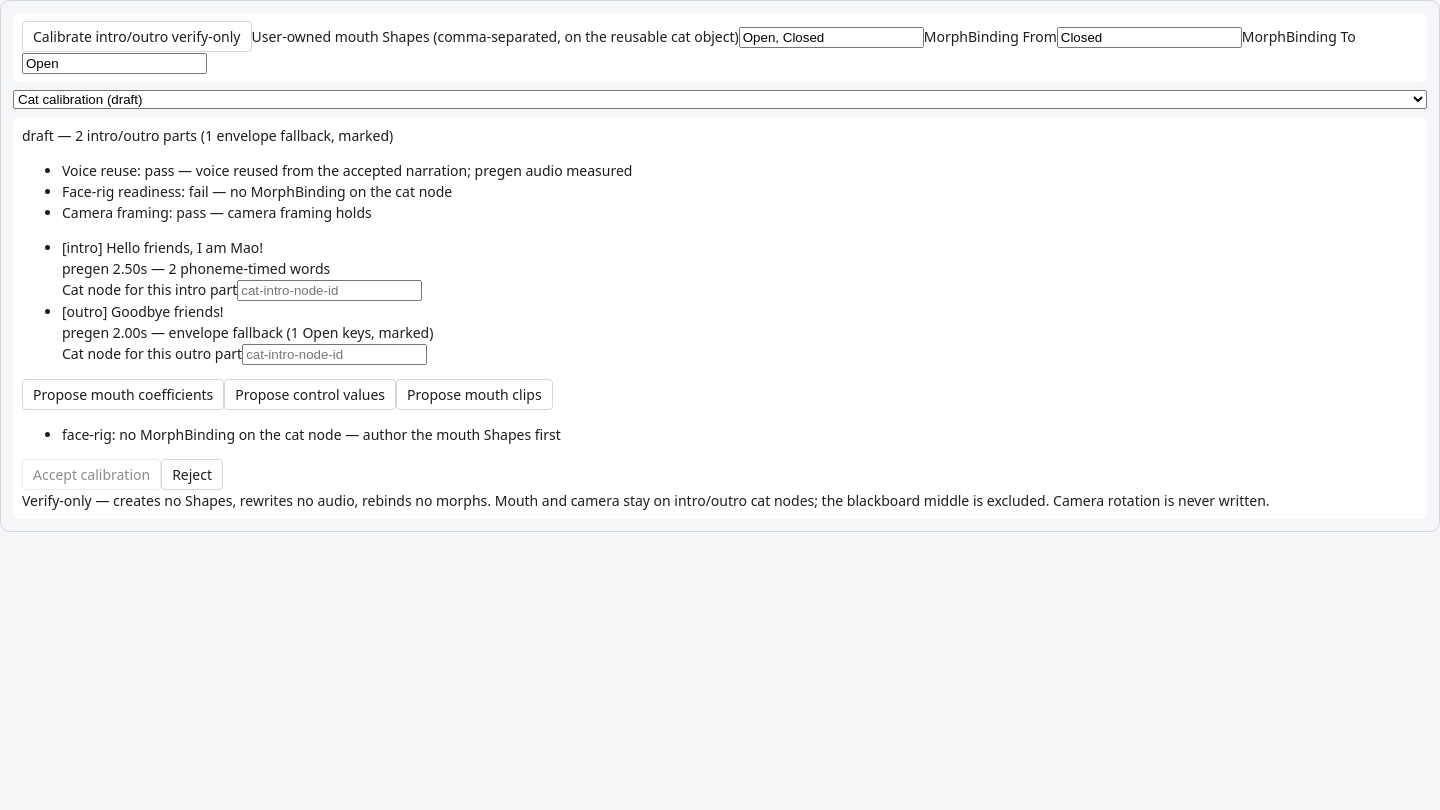
Test: AiCalibrationView Stage D gate › mouth proposals require mapped cat nodes and stay coefficient-only
The image size is (1440, 810).
Note: No cat nodes mapped yet: the view asks for intro/outro mapping first.
Click the button with test id "ai-calibration-propose-mouth".
click(123, 394)  # box [22,379,224,410]
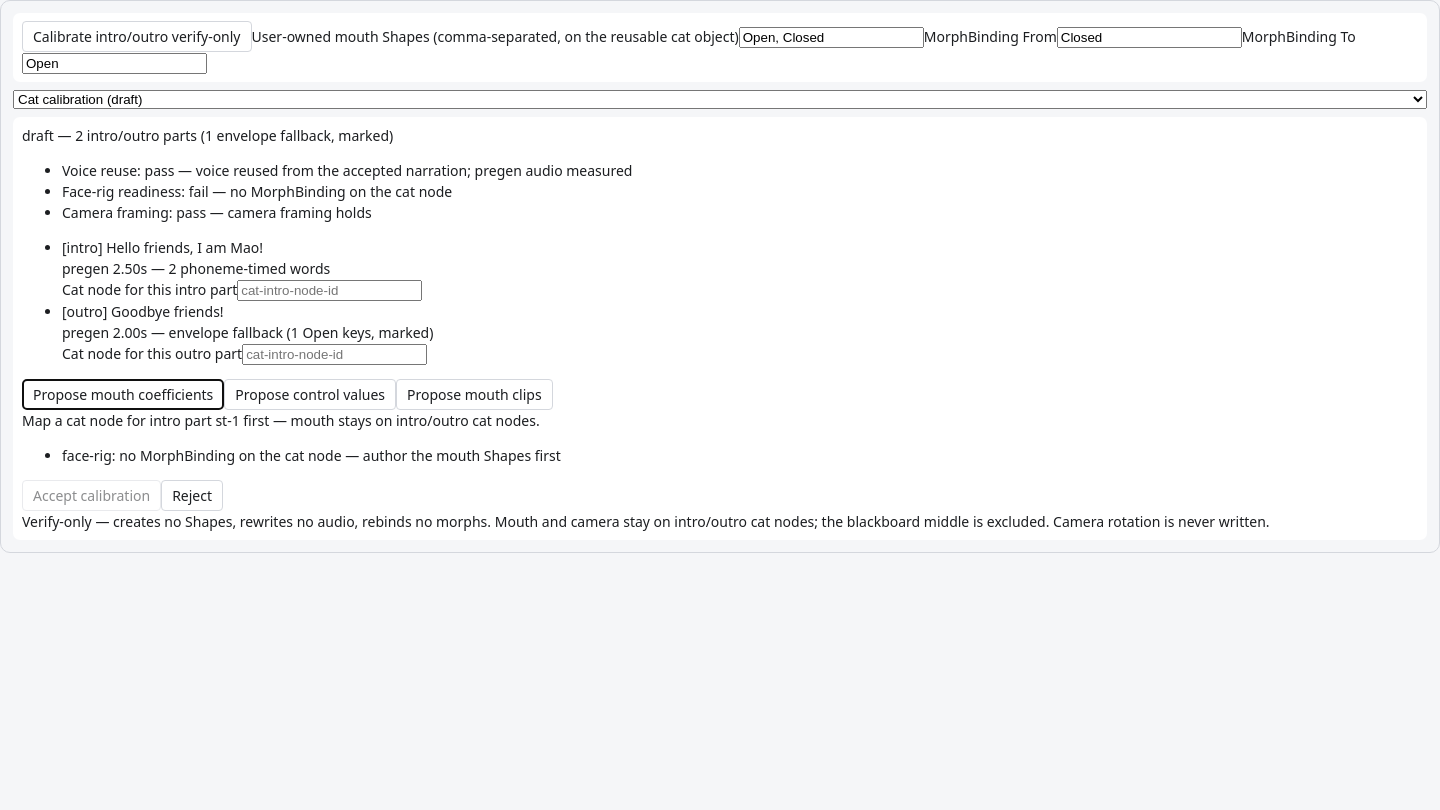
Expected: the text with test id "ai-calibration-proposal-note" shows "cat node", [22,411,540,430]
